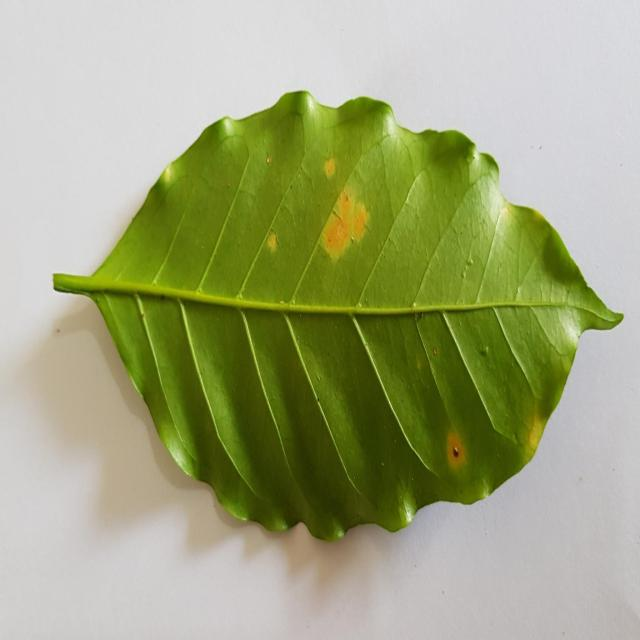Enfermedad-Roya: (51, 91, 624, 545)
